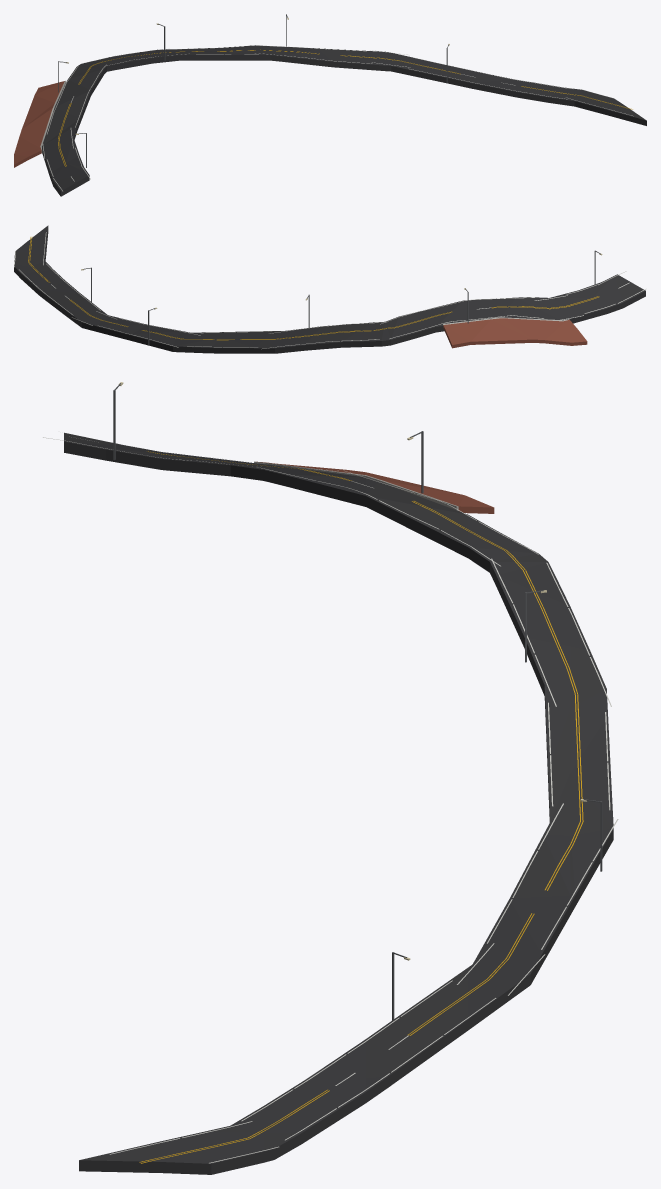
3 views of the same model, one above another, from view 1: azimuth 30°, elevation 25°; view 2: azimuth 150°, elevation 25°; view 3: azimuth 270°, elevation 25° (orthographic). The views are drawn at different scales.
Size of the model in its own units: 134 by 27.26 by 56.32.
